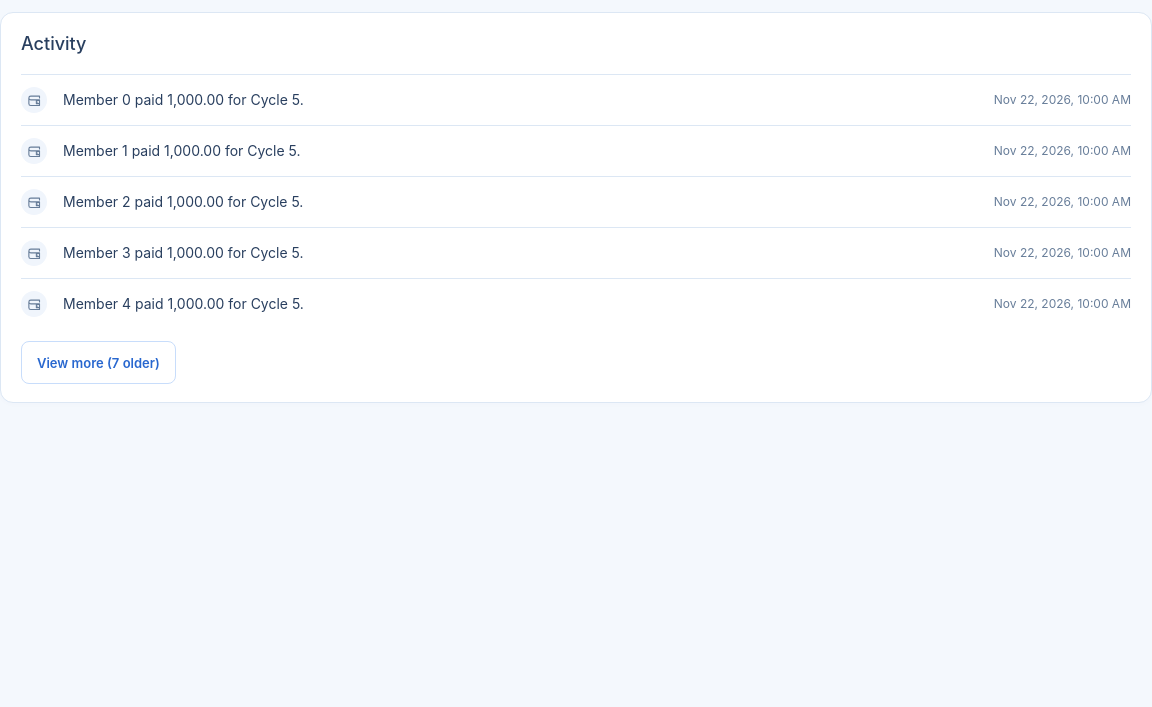
Activity feed › shows the latest 5 events, then more on request
Expected: the text "Member 0 paid 1,000.00 for Cycle 5." is shown, [63,91,304,108]
Expected: the number of list items is 5, [21,74,1131,125]; [21,125,1131,176]; [21,176,1131,227]; [21,227,1131,278]; [21,278,1131,329]
Click the button "View more (7 older)" at (98, 362), box [21,341,176,384]
(page scrolled)
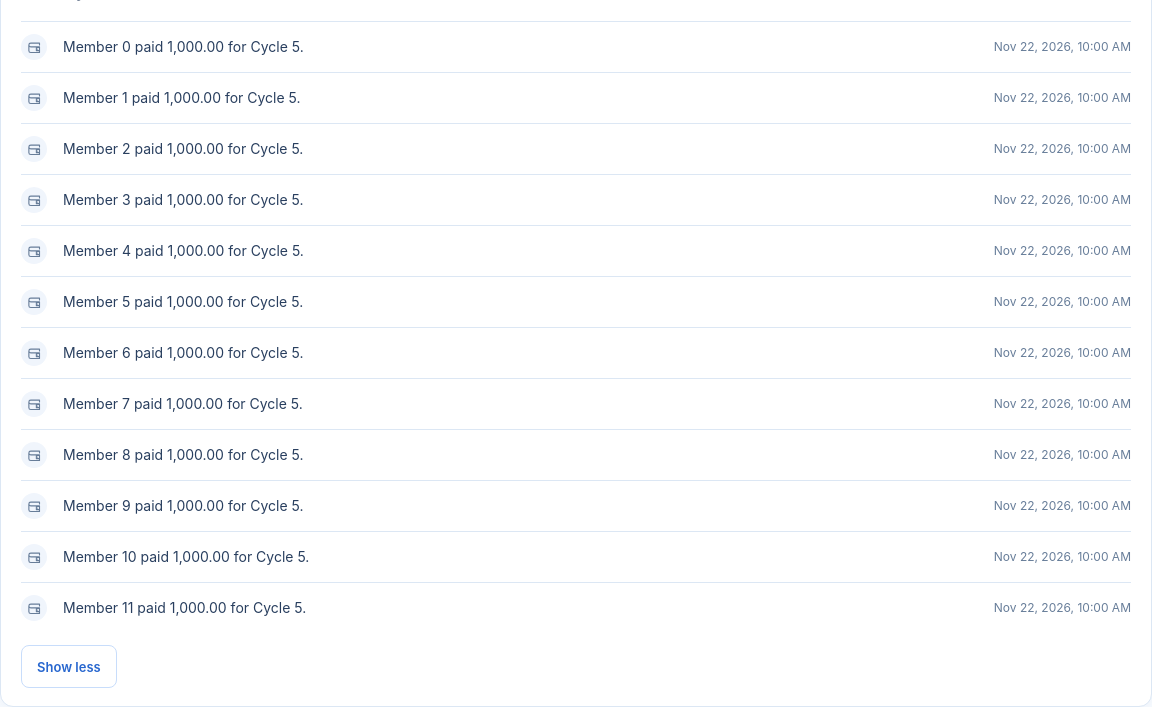
Expected: the number of list items is 12
Click the button "Show less" at (69, 666), box [21,645,117,688]
(page scrolled)
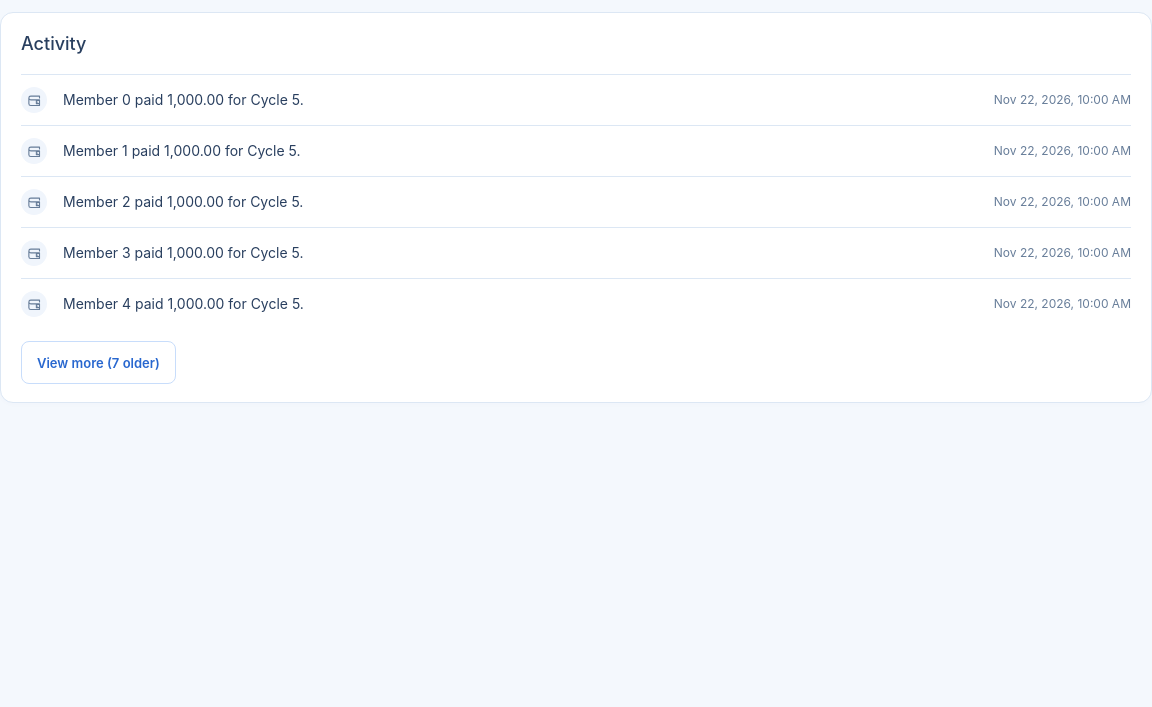
Expected: the number of list items is 5, [21,74,1131,125]; [21,125,1131,176]; [21,176,1131,227]; [21,227,1131,278]; [21,278,1131,329]
